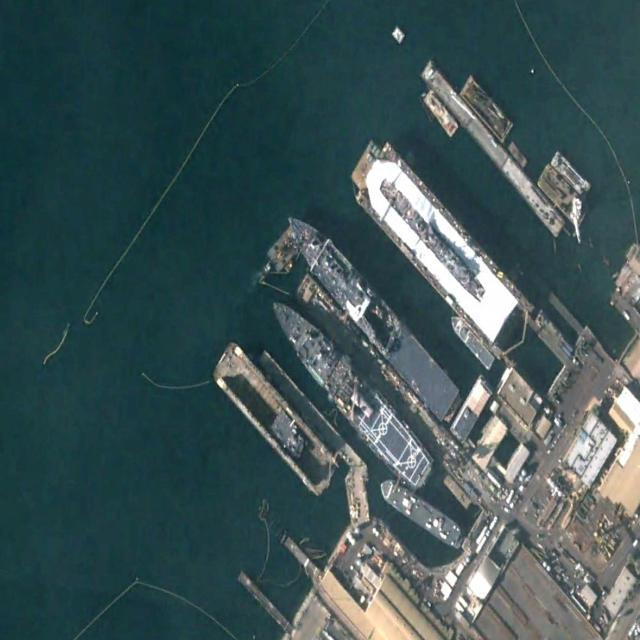Landing: (276, 201, 459, 423), (261, 280, 438, 499)
Other Ship: (376, 173, 489, 303), (377, 475, 467, 552), (447, 312, 496, 373), (421, 85, 461, 142)
